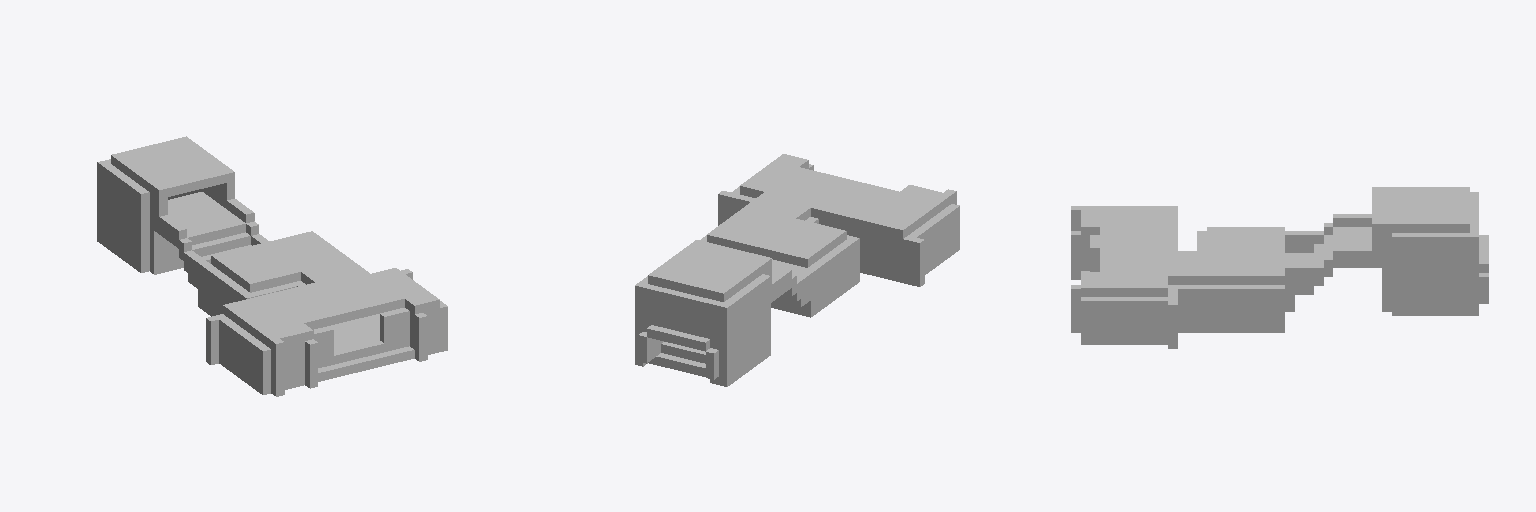
File: center remake1.obj
The picture shows the model from 3 angles: view 1: azimuth 30°, elevation 25°; view 2: azimuth 150°, elevation 25°; view 3: azimuth 270°, elevation 25°; orthographic projection.
Visible parts, largest first — view 1: object 1; view 2: object 1; view 3: object 1.
Boxes of the visible parts, x1=… form: object 1: x1=97, y1=136, x2=447, y2=396; object 1: x1=635, y1=154, x2=959, y2=386; object 1: x1=1071, y1=187, x2=1488, y2=348.
Bounding box in the file's own units: 2.4 × 1 × 4.3.